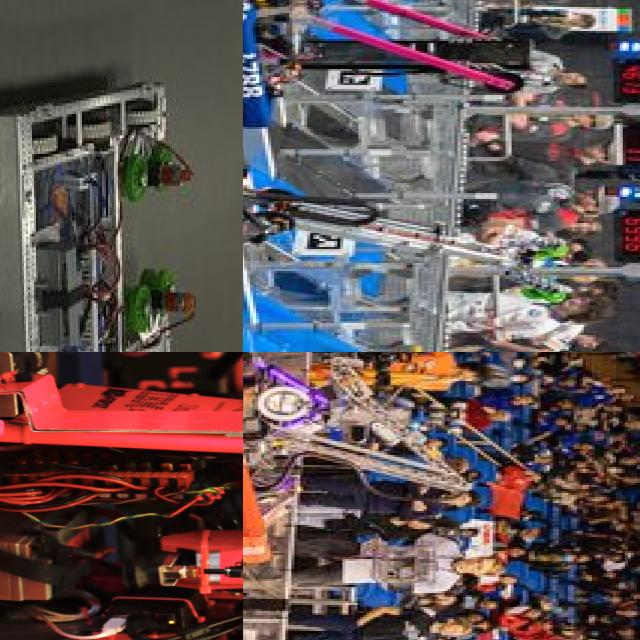FRC-Robots: (0, 47, 243, 352), (0, 352, 243, 640), (243, 154, 599, 330), (243, 352, 492, 584)
